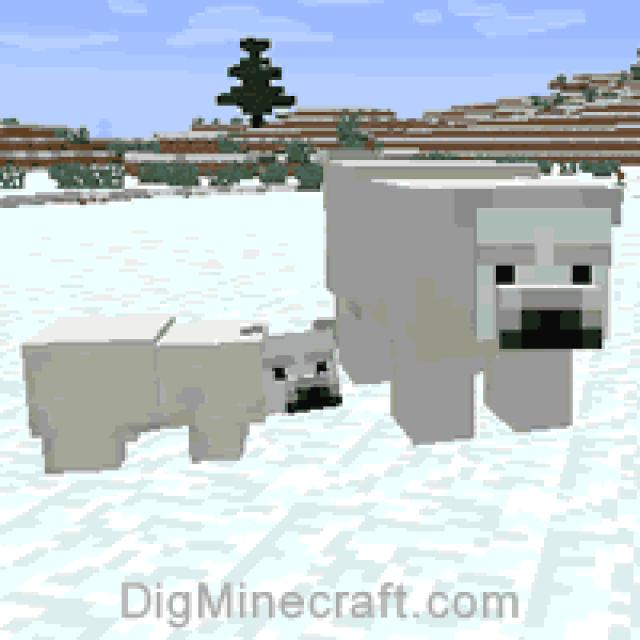Polar Bear: (322, 157, 622, 448), (18, 310, 347, 477)
